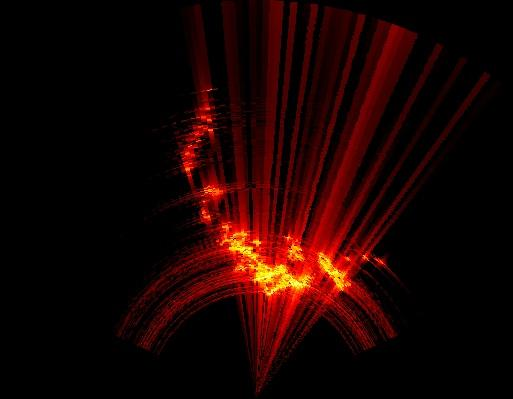shipwreck: (219, 221, 350, 296), (200, 184, 225, 224)
